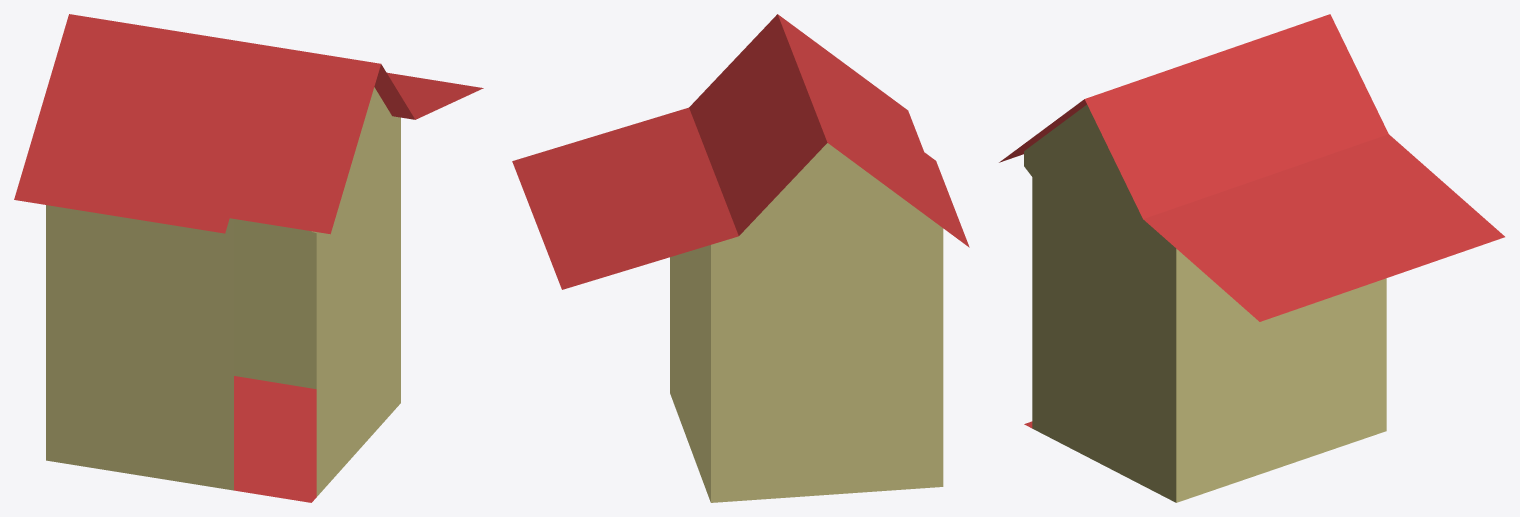
3 renders of one model, left to right at view 1: azimuth 30°, elevation 25°; view 2: azimuth 150°, elevation 25°; view 3: azimuth 270°, elevation 25°, orthographic. The views are drawn at different scales.
Bounding box in the file's own units: 11.23 × 10.74 × 8.7.
